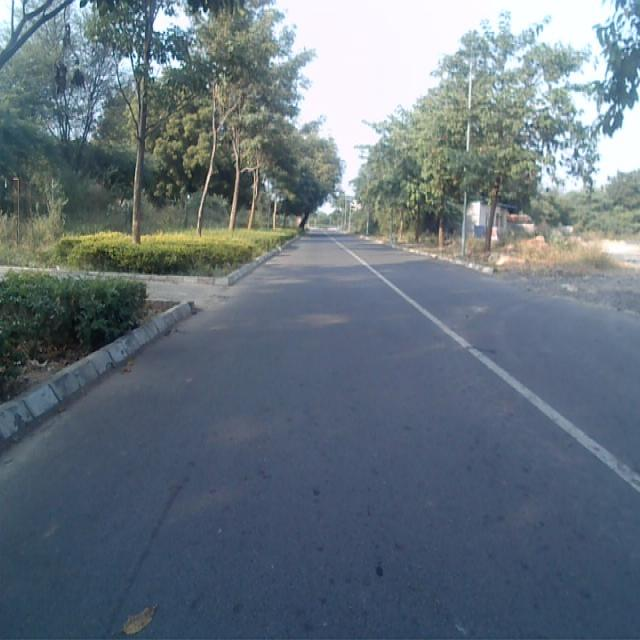lane: (0, 234, 640, 640)
